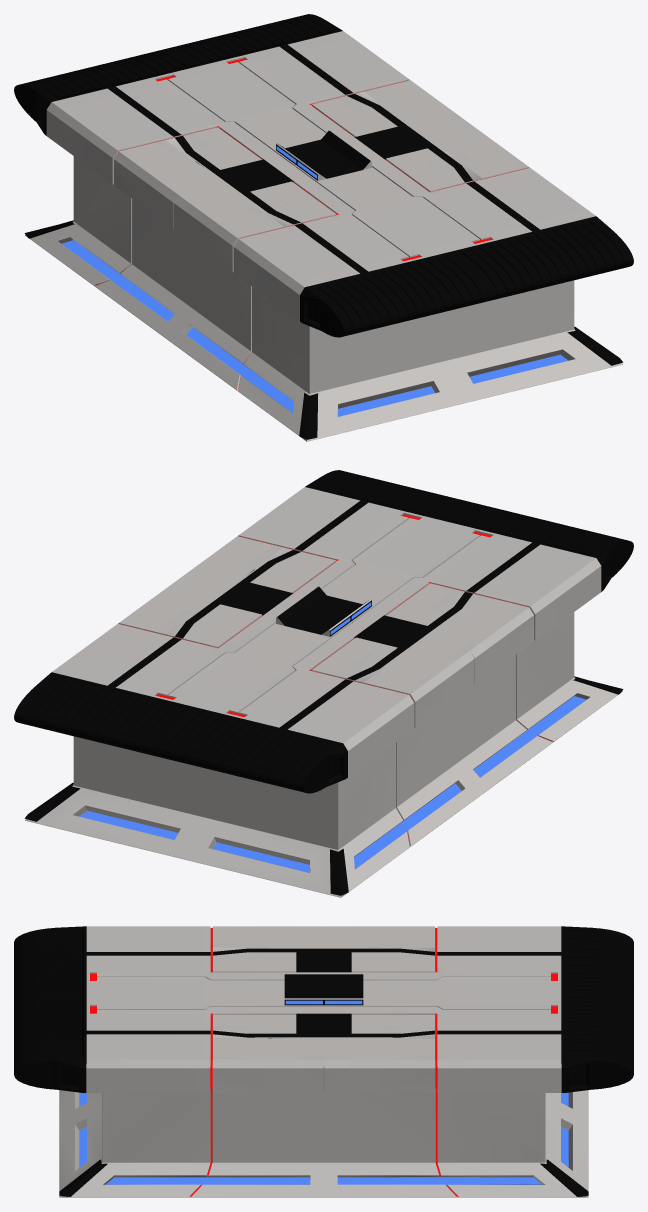
Rendered from sci-fi_table.glb.
3 views of the same model, one above another, from view 1: azimuth 30°, elevation 25°; view 2: azimuth 150°, elevation 25°; view 3: azimuth 270°, elevation 25° (orthographic). The views are drawn at different scales.
Parts seen in each view (by area): view 1: Cube, Cube.001; view 2: Cube, Cube.001; view 3: Cube, Cube.001.
Part boxes in pixels (bbox=[...]): Cube: bbox=[14, 14, 633, 337]; Cube.001: bbox=[24, 104, 623, 441]; Cube: bbox=[14, 470, 633, 793]; Cube.001: bbox=[24, 560, 623, 897]; Cube: bbox=[14, 926, 633, 1092]; Cube.001: bbox=[59, 1014, 588, 1197].
Size of the model in its own units: 6.2 by 2.74 by 11.06.
